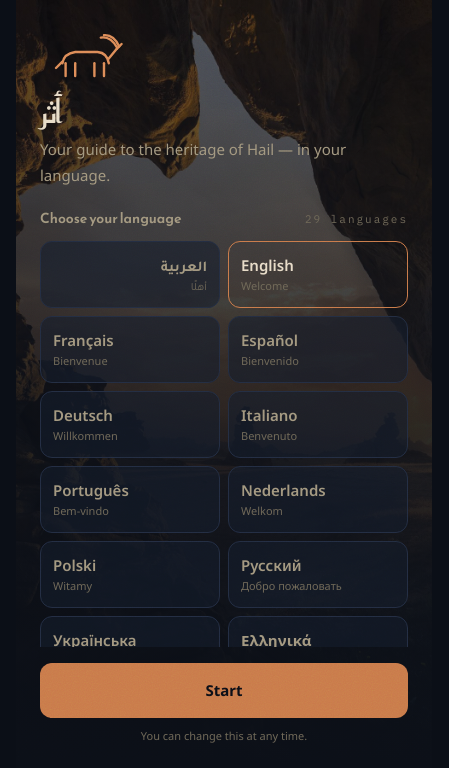
Scenario: شاشة اختيار اللغة › تبدّل الواجهة فور اختيار لغة، ثم تدخل التطبيق
This screenshot has width=449, height=768.
Step 1. Click the button "Français Bienvenue" → (130, 349), box [40,316,220,382]
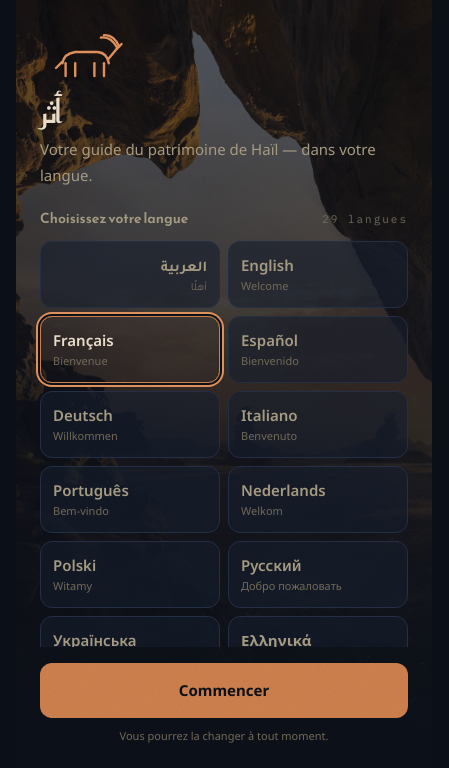
Now the button "Commencer" is shown
Step 2. Click the button "Commencer" → (224, 690), box [40,663,408,718]
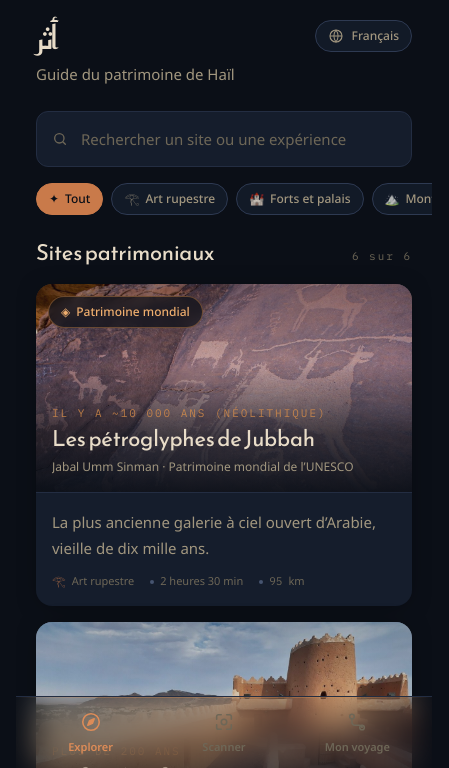
Now the heading "Sites patrimoniaux" is shown, box [36,239,214,268]
